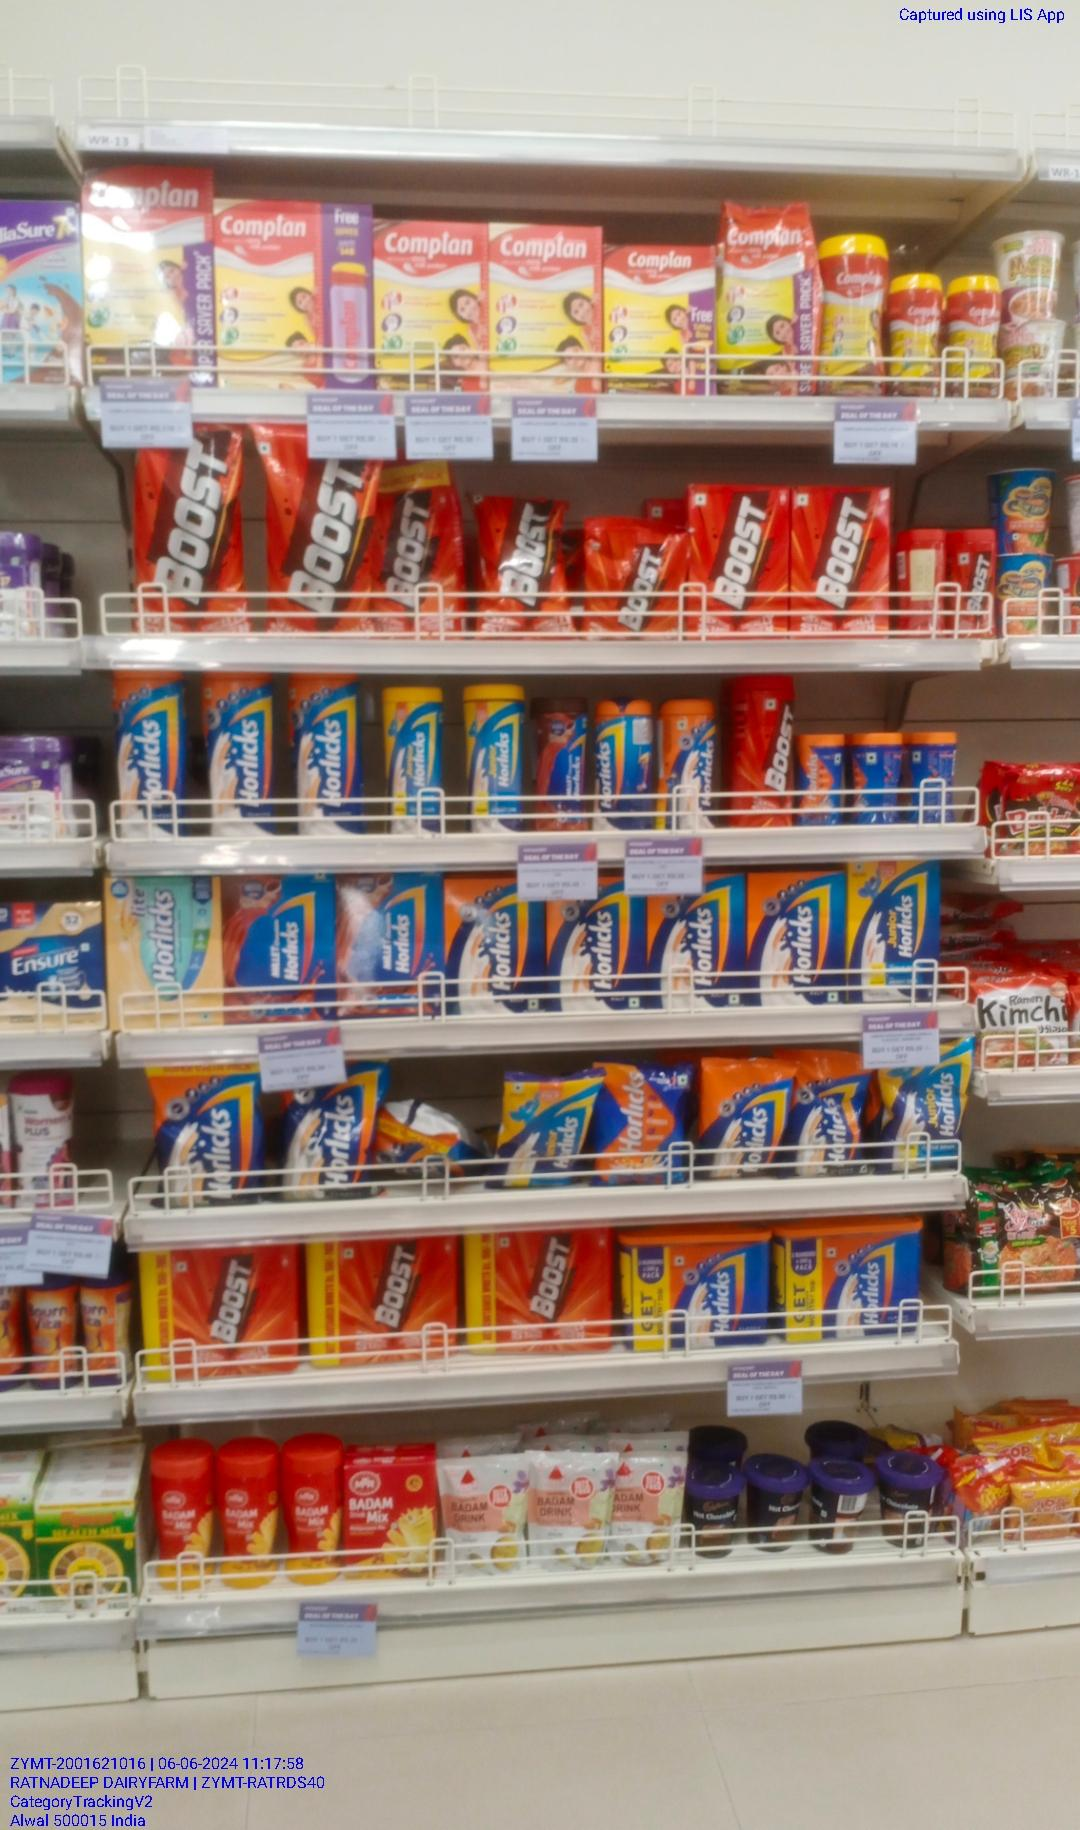COMPLAN_CHOCOLATE_200_GMS_JAR: (951, 272, 1004, 400), (894, 271, 946, 397)
COMPLAN_CHOCOLATE_200_GMS_PACK: (602, 244, 711, 395)
COMPLAN_CHOCOLATE_500_GMS_JAR: (820, 230, 890, 398)
HORLICKS_JUNIOR_VANILLA_500_GM_JAR: (462, 681, 525, 842), (382, 685, 446, 837)
HORLICK_CLASSIC_MALT_200_G_JAR: (795, 733, 845, 828), (849, 733, 896, 826)
HORLICK_MALT_1_KG_CONTAINER: (780, 1221, 933, 1342), (622, 1230, 771, 1351)
